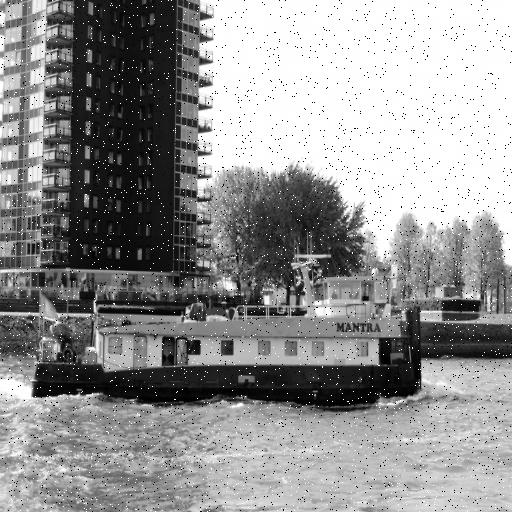tugboat: (28, 251, 427, 413)
